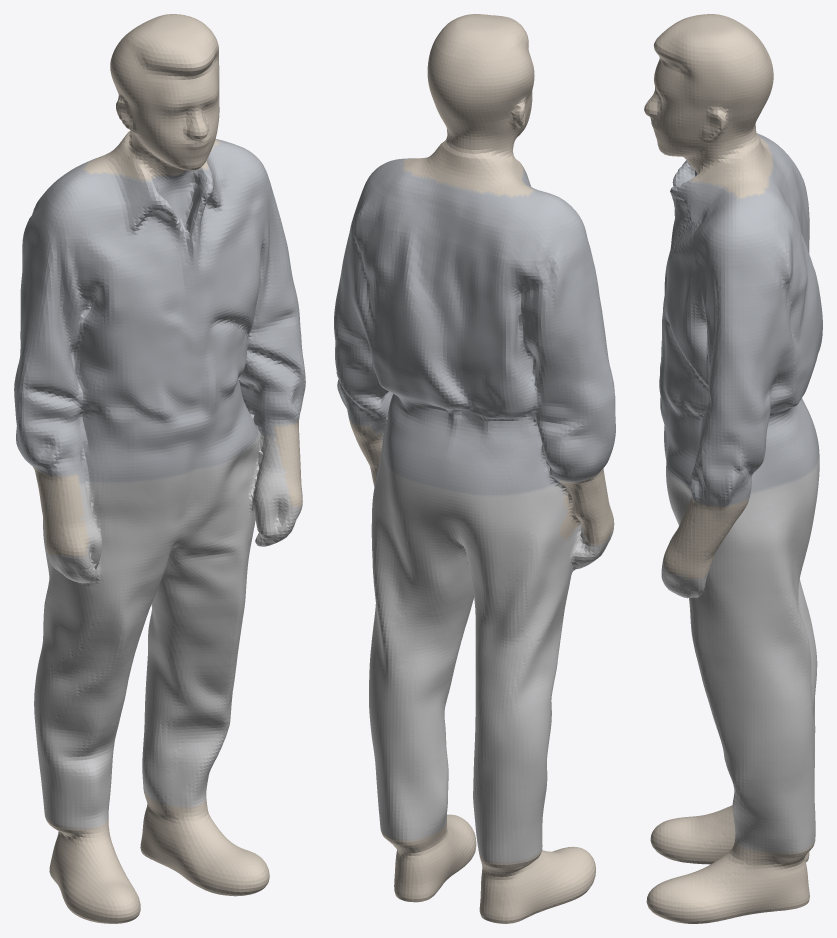
File: shirt4_pant10.glb
The picture shows the model from 3 angles, left to right: view 1: azimuth 30°, elevation 25°; view 2: azimuth 150°, elevation 25°; view 3: azimuth 270°, elevation 25°; orthographic projection.
Visible parts, largest first — view 1: geometry_0; view 2: geometry_0; view 3: geometry_0.
Part boxes in pixels (x1,y1,x2,y2): geometry_0: (14, 14, 305, 923); geometry_0: (334, 14, 615, 923); geometry_0: (644, 14, 822, 923).
Bounding box in the file's own units: 0.6743 × 1.99 × 0.3729.
